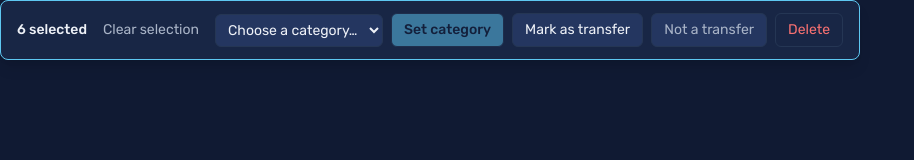
Test: BulkActionBar › says what it skipped
Select "Groceries" in the dropdown named "category for the selected" at (299, 30), box [215, 14, 383, 46]
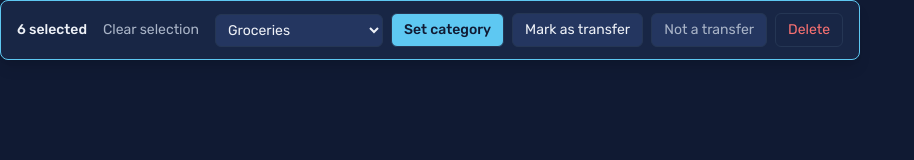
Click the button "Set category" at (448, 30), box [391, 13, 504, 47]
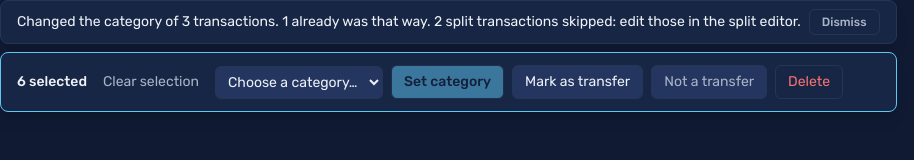
Expected: the text "Changed the category of 3 transactions. 1 already was that way. 2 split transactions skipped: edit those in the split ed" is shown, [17, 13, 801, 30]
